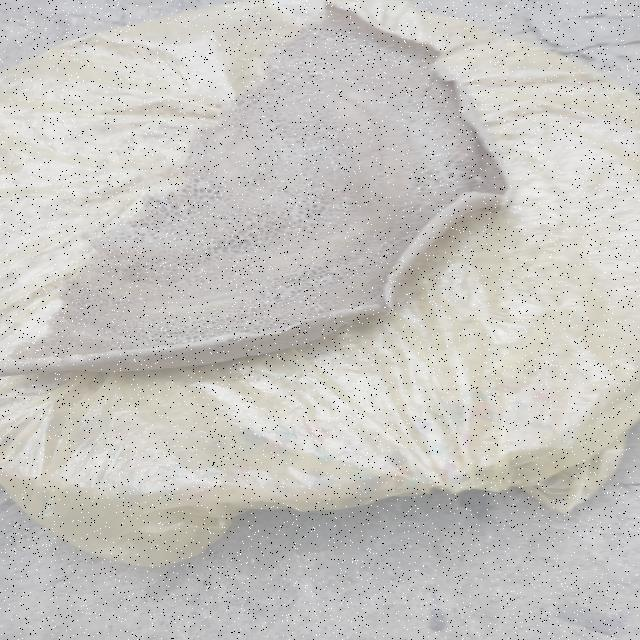injera_mold: (390, 57, 413, 69), (312, 305, 328, 314), (404, 96, 418, 105), (472, 174, 487, 182), (427, 152, 444, 158), (276, 75, 290, 82), (431, 207, 444, 214), (423, 110, 434, 118), (315, 147, 327, 153), (361, 40, 371, 47), (335, 145, 346, 151), (380, 99, 390, 105), (356, 161, 366, 166), (396, 121, 406, 126), (468, 138, 476, 143), (271, 64, 278, 69)
